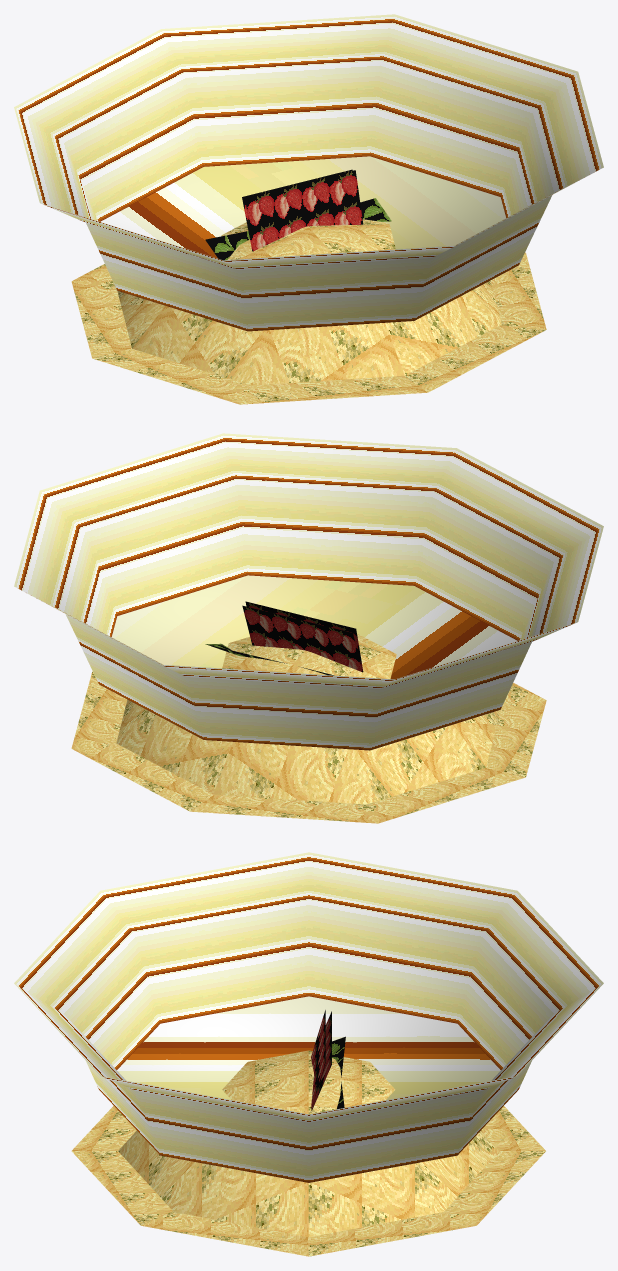
The model's file is 5571u_spps00_ss.gltf.
The picture shows the model from 3 angles, top to bottom: view 1: azimuth 30°, elevation 25°; view 2: azimuth 150°, elevation 25°; view 3: azimuth 270°, elevation 25°; orthographic projection.
Parts seen in each view (by area): view 1: 5571u_spps00_ss; view 2: 5571u_spps00_ss; view 3: 5571u_spps00_ss.
Boxes of the visible parts, x1=… form: 5571u_spps00_ss: x1=14, y1=14, x2=603, y2=404; 5571u_spps00_ss: x1=14, y1=433, x2=603, y2=823; 5571u_spps00_ss: x1=14, y1=852, x2=603, y2=1256.
Bounding box in the file's own units: 0.8237 × 0.2644 × 0.7837.
Materials: 5 (5 with a texture image).
